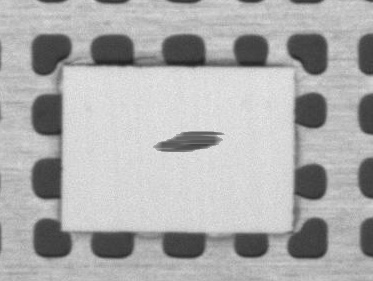DIE_INK: (151, 130, 224, 152)
